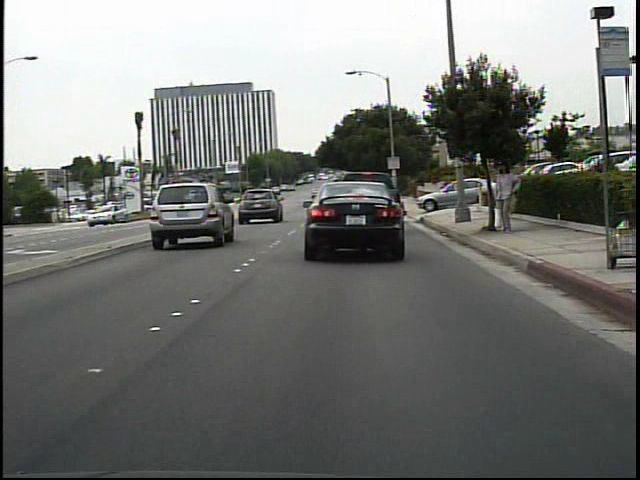person: (487, 158, 524, 237)
